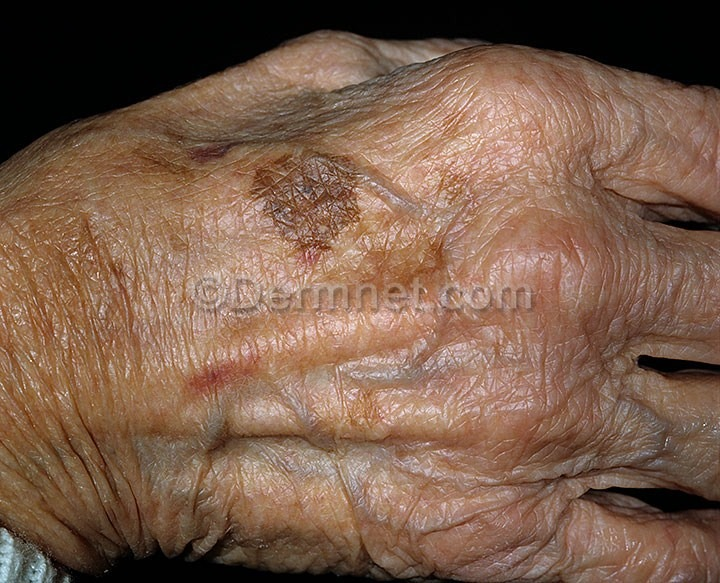Melasma: (156, 104, 451, 271)
